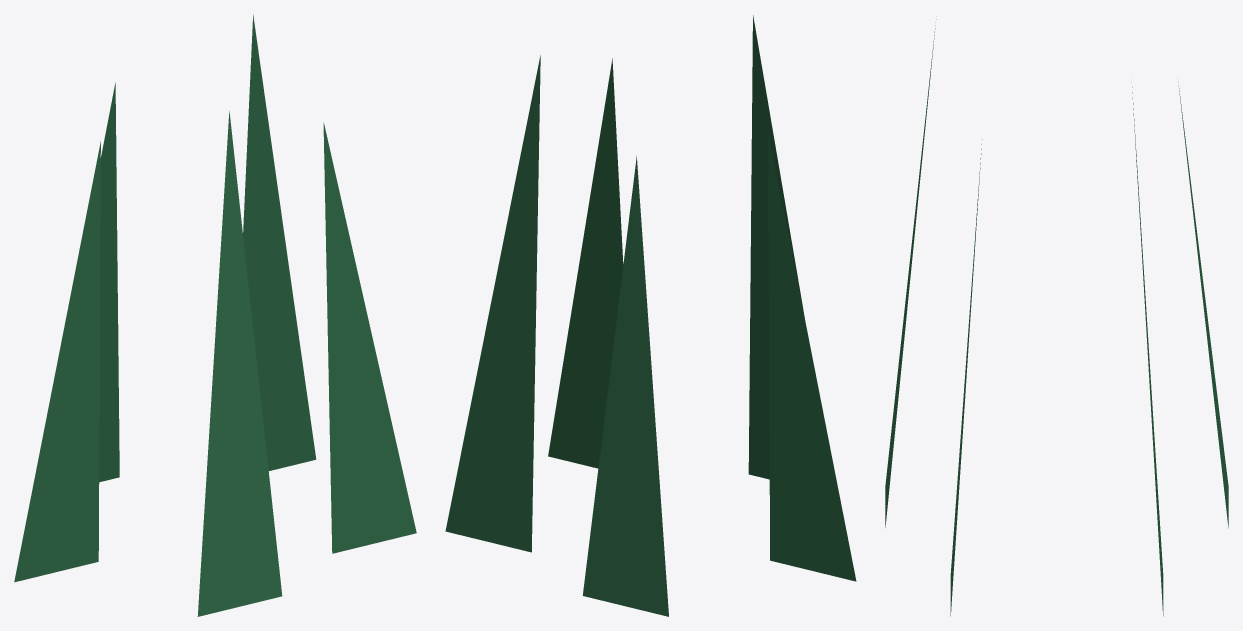
File: grass.glb
The picture shows the model from 3 angles, left to right: view 1: azimuth 30°, elevation 25°; view 2: azimuth 150°, elevation 25°; view 3: azimuth 270°, elevation 25°; orthographic projection. The views are drawn at different scales.
Parts seen in each view (by area): view 1: RF_Grass_Asset_Asset; view 2: RF_Grass_Asset_Asset; view 3: RF_Grass_Asset_Asset.
Part boxes in pixels (x1,y1,x2,y2): RF_Grass_Asset_Asset: [14, 14, 416, 616]; RF_Grass_Asset_Asset: [445, 15, 856, 616]; RF_Grass_Asset_Asset: [885, 19, 1228, 616].
Bounding box in the file's own units: 0.3333 × 0.43 × 0.2663.
